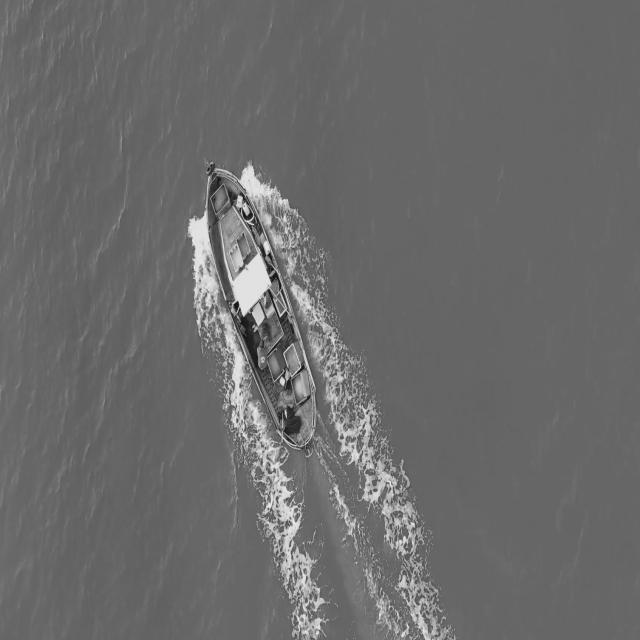ship: (196, 161, 325, 453)
